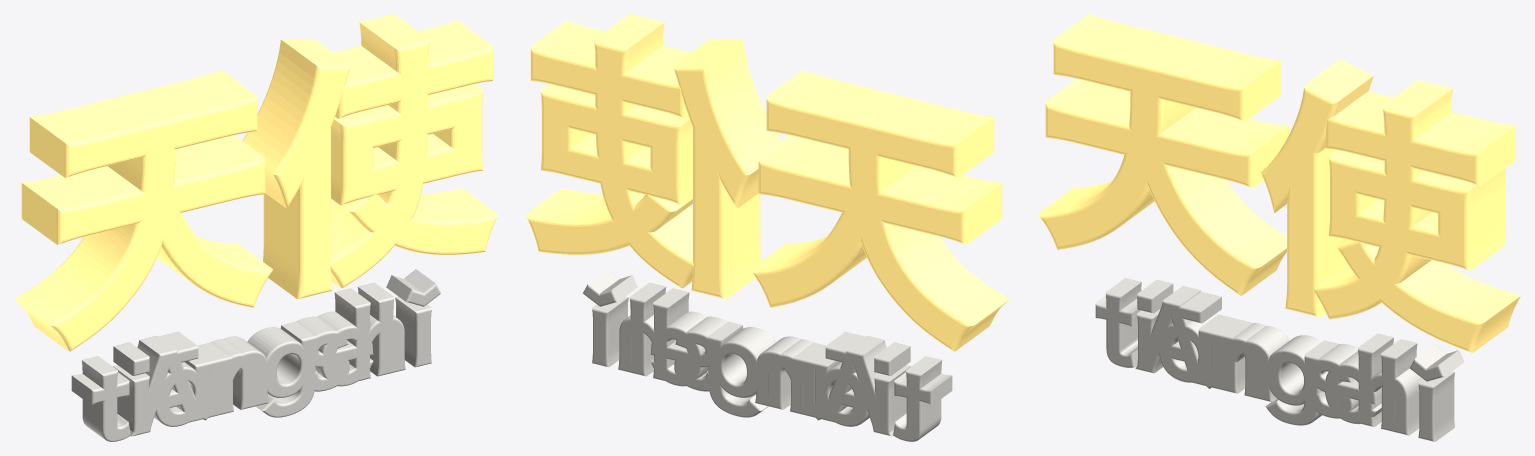
The model's file is title_angel.glb.
3 views of the same model, side by side, from view 1: azimuth 30°, elevation 25°; view 2: azimuth 150°, elevation 25°; view 3: azimuth 330°, elevation 25° (orthographic).
Parts seen in each view (by area): view 1: hanzi, pinyin, english; view 2: hanzi, pinyin, english; view 3: hanzi, pinyin, english.
Part boxes in pixels (bbox=[...]): hanzi: bbox=[14, 14, 497, 351]; pinyin: bbox=[71, 269, 440, 441]; english: bbox=[130, 282, 394, 436]; hanzi: bbox=[526, 14, 1009, 351]; pinyin: bbox=[583, 269, 952, 441]; english: bbox=[629, 282, 893, 436]; hanzi: bbox=[1038, 14, 1520, 352]; pinyin: bbox=[1095, 278, 1463, 441]; english: bbox=[1135, 286, 1417, 432].
Size of the model in its own units: 1 by 0.7477 by 0.1509.
